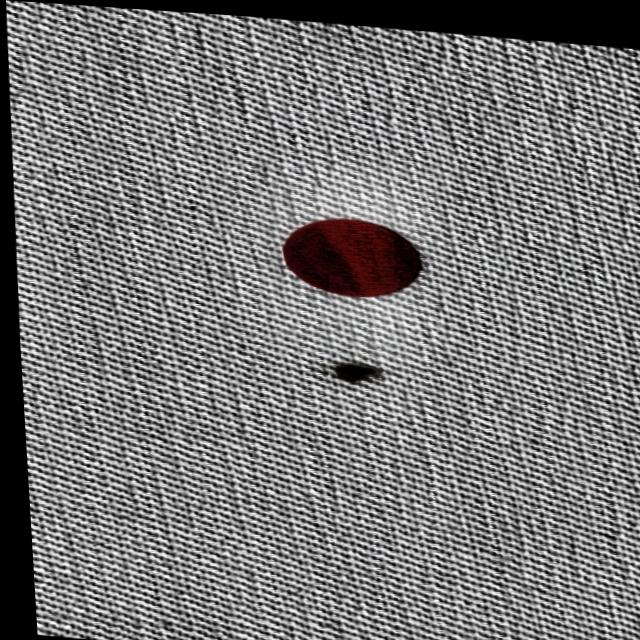Hole: (306, 340, 397, 396)
